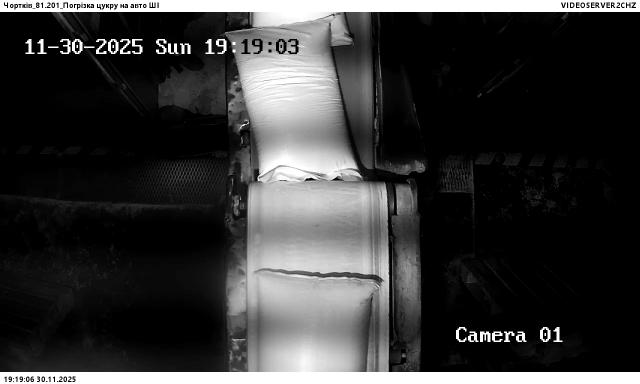bag: (224, 16, 365, 181), (254, 269, 378, 372), (251, 12, 354, 45)
